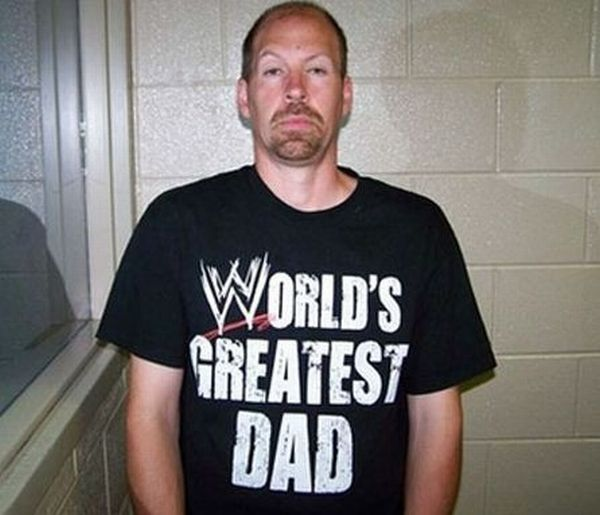T-Shirt_Regular: (85, 139, 509, 515)
